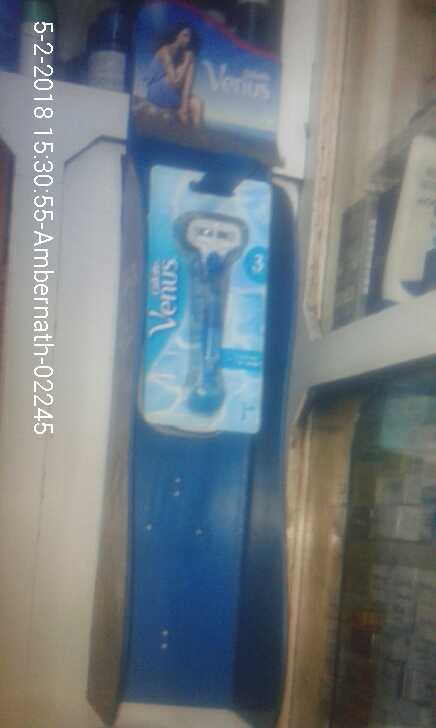venus: (148, 161, 273, 439)
